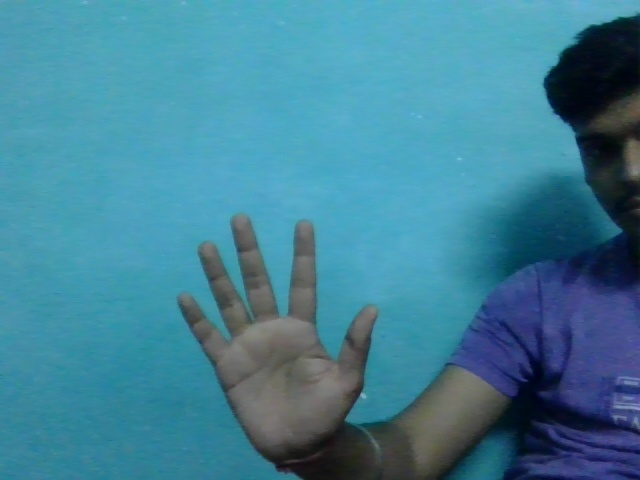hello: (162, 210, 393, 454)
